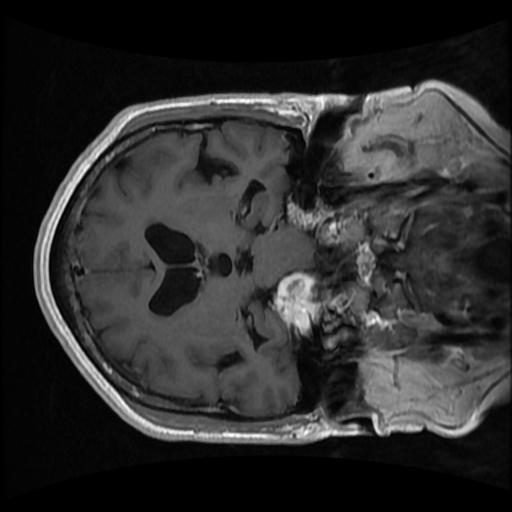meningioma: (270, 270, 319, 334)
